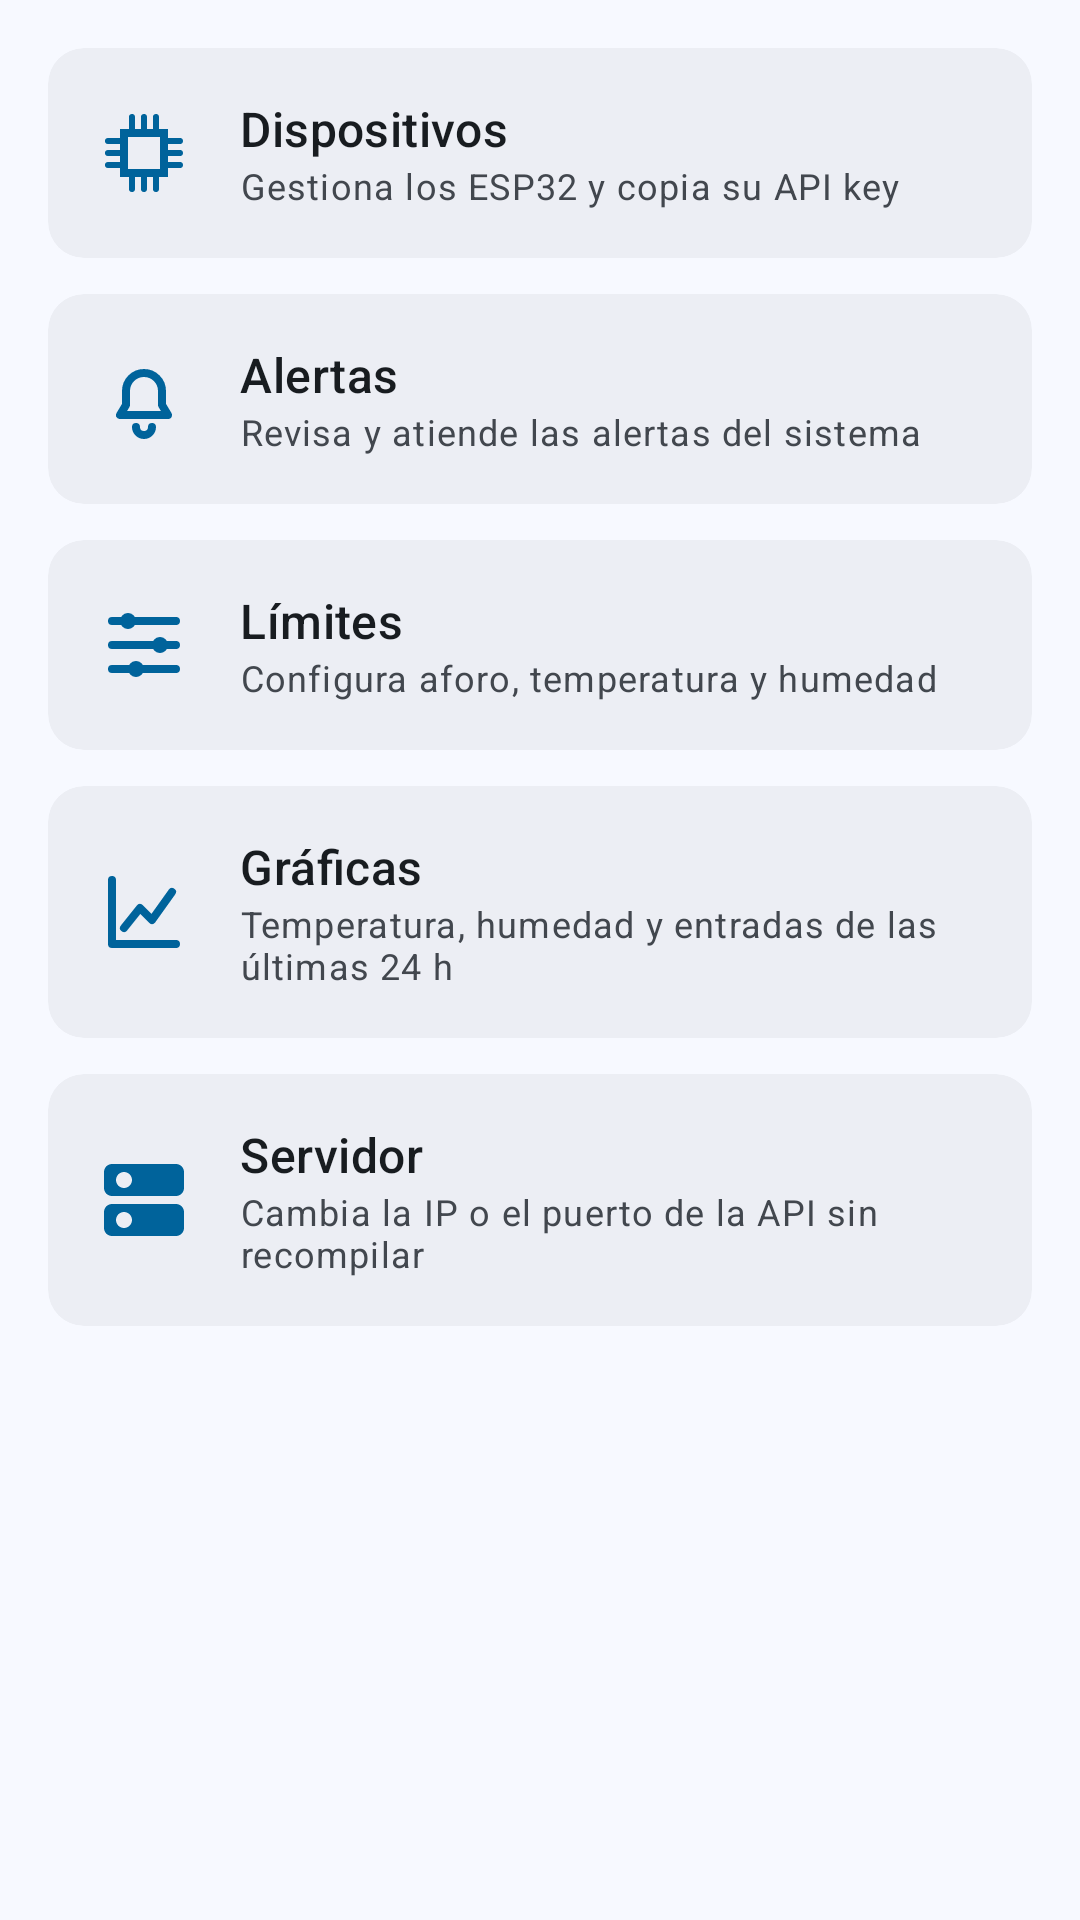

Where icons sit on this 1080w x 1920h app screen, as (x1, y1, x2, y2):
memory: (105, 114, 183, 192)
notifications: (116, 369, 172, 439)
show chart: (108, 876, 180, 948)
tune: (108, 613, 180, 677)
